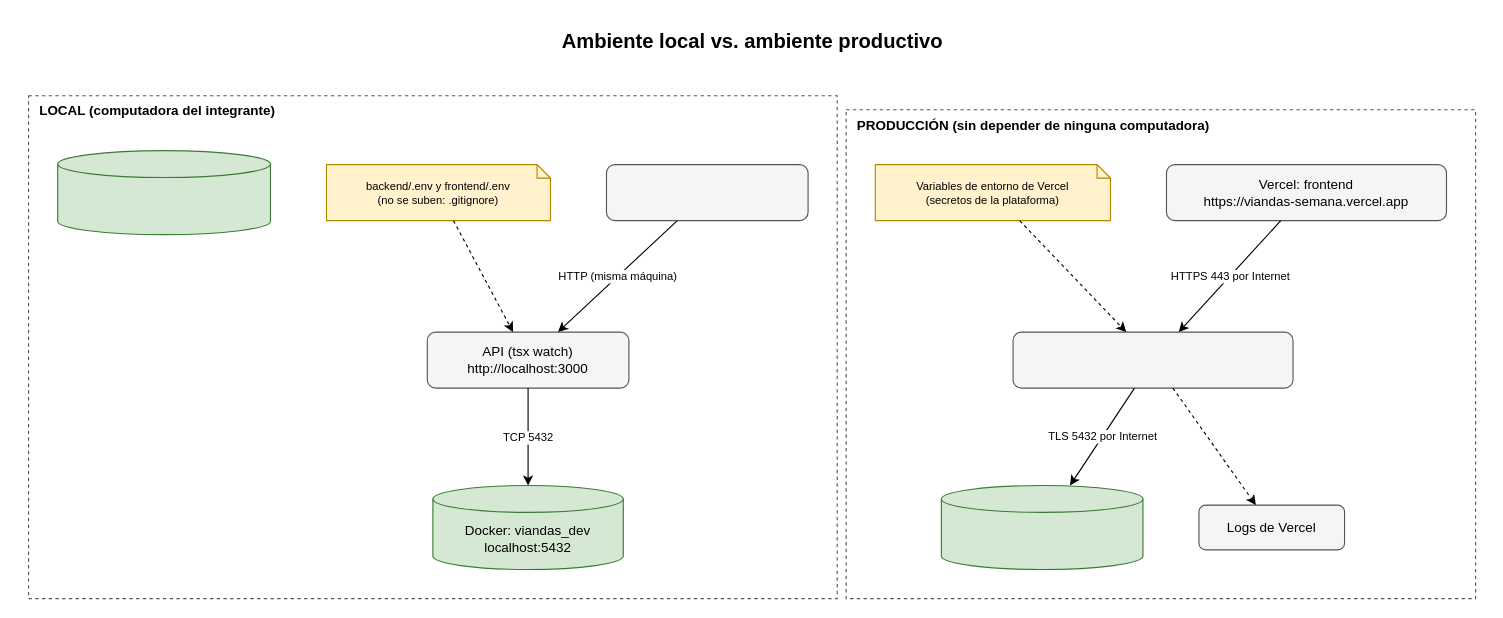
Image size: 1503x618. Some labels were removed from this diagram. Each missing label, with the centre of its shape:
"Docker: viandas_test localhost:5433 (sólo tests)" belongs at pixel 163 192.
"Neon PostgreSQL (remota y compartida)" belongs at pixel 1041 527.
"Vercel: API (función) https://viandas-semana-api.vercel.app" belongs at pixel 1152 359.
"Vite dev server http://localhost:5173" belongs at pixel 706 192.
